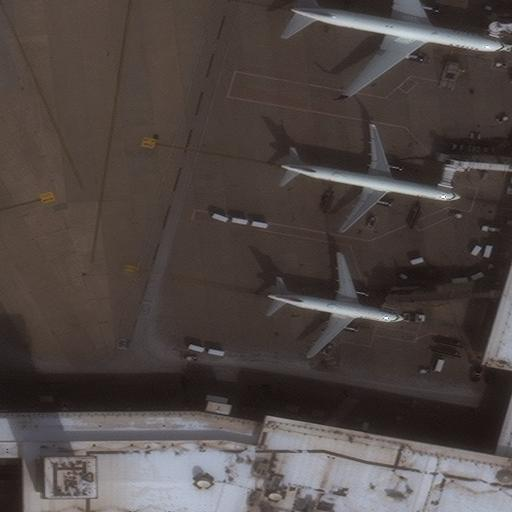Large Civil Transport: (287, 0, 511, 99)
Medium Civil Transport: (280, 124, 462, 233), (267, 253, 405, 358)
